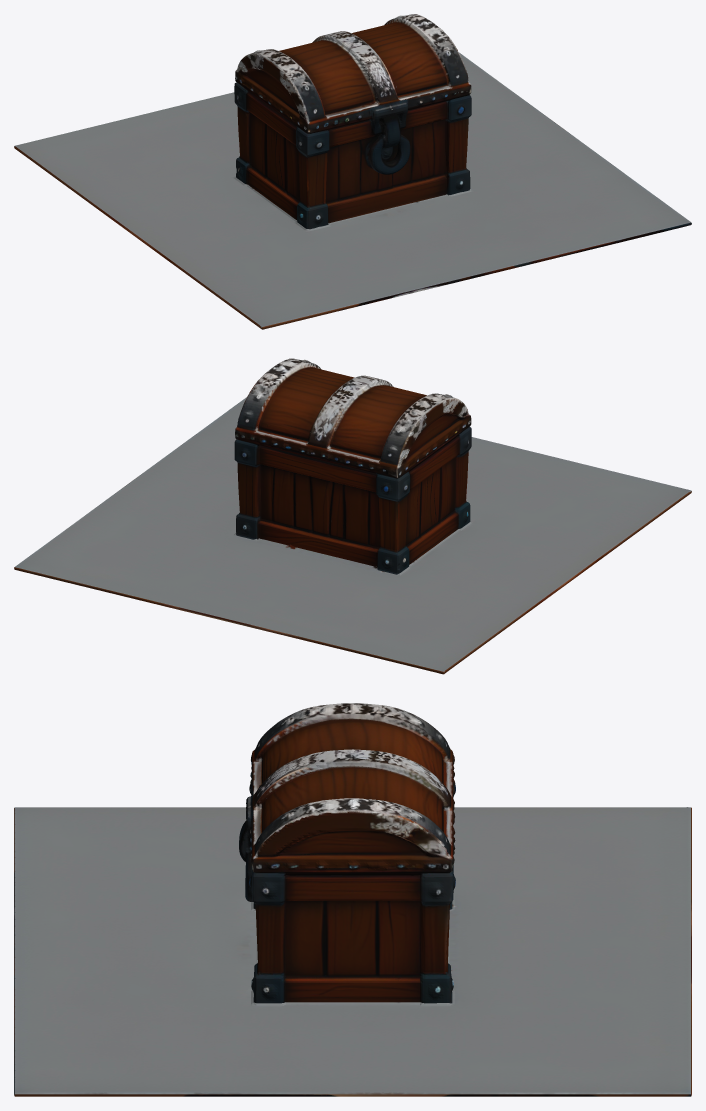
File: chest.glb
3 renders of one model, top to bottom at view 1: azimuth 30°, elevation 25°; view 2: azimuth 150°, elevation 25°; view 3: azimuth 270°, elevation 25°, orthographic. The views are drawn at different scales.
Parts seen in each view (by area): view 1: textured_mesh.obj; view 2: textured_mesh.obj; view 3: textured_mesh.obj.
Part boxes in pixels (left/top/right/bottom): textured_mesh.obj: left=14, top=14, right=691, bottom=329; textured_mesh.obj: left=14, top=358, right=691, bottom=674; textured_mesh.obj: left=14, top=703, right=691, bottom=1096.
Bounding box in the file's own units: 1.99 × 0.6533 × 1.99.
Materials: 1 (1 with a texture image).
